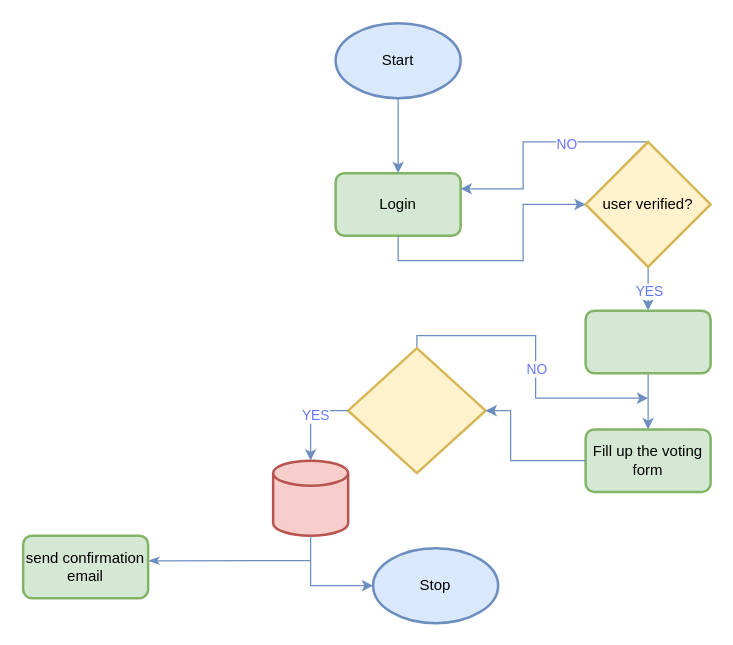
The diagram is 733 pixels wide and 645 high, and some of its shapes have lost their labels. The box of each missing label's shape, as (x1, y1, x2, y2) in pixels:
Browse election: (584, 309, 711, 374)
Database Model: (271, 459, 349, 536)
voting details correct?: (346, 346, 486, 474)
